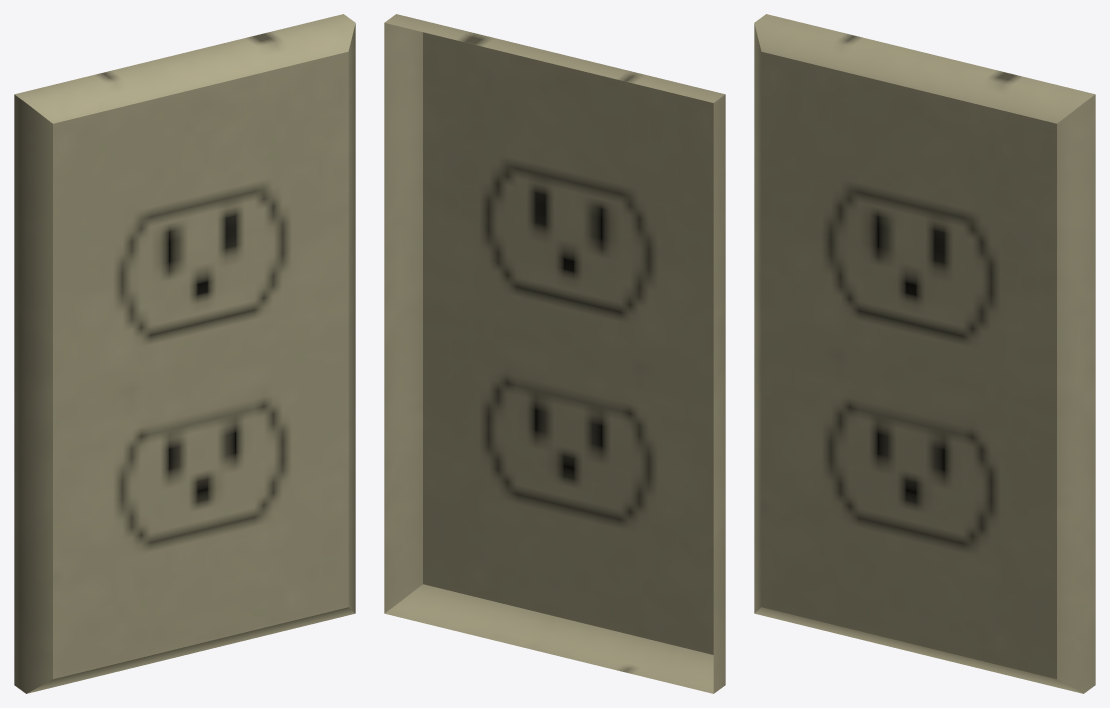
Rendered from Outlet.fbx.
3 renders of one model, left to right at view 1: azimuth 30°, elevation 25°; view 2: azimuth 150°, elevation 25°; view 3: azimuth 330°, elevation 25°, orthographic.
Visible parts, largest first — view 1: Outlet; view 2: Outlet; view 3: Outlet.
Boxes of the visible parts, x1=… form: Outlet: x1=14, y1=14, x2=355, y2=693; Outlet: x1=384, y1=14, x2=725, y2=693; Outlet: x1=754, y1=14, x2=1095, y2=693.
Bounding box in the file's own units: 7 × 12 × 0.8.
